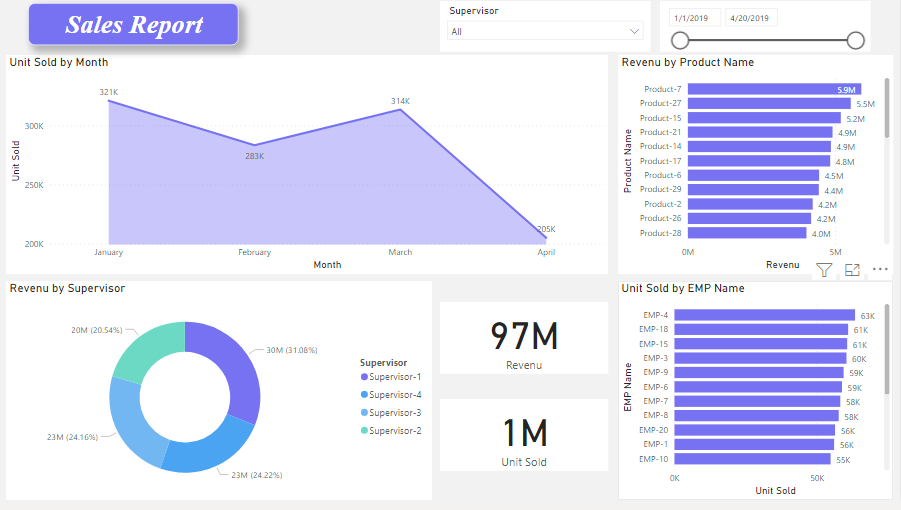

What the dashboard file says about the page in this screenshot:
{"tool":"powerbi","page":{"name":"Page 1","canvas":[1280,720],"ordinal":0},"visuals":[{"type":"card","fields":{"Values":["Sum(Sales Data.Unit Sold)"]},"box":[628.2,572.8,238.5,102.5],"z":0},{"type":"card","fields":{"Values":["Sum(Sales Data.Revenu)"]},"box":[628.2,435.1,238.5,102.5],"z":1000},{"type":"donutChart","fields":{"Y":["Sum(Sales Data.Revenu)"],"Category":["Emp Master.Supervisor"]},"box":[11.8,404.8,604.7,310.8],"z":2000},{"type":"areaChart","fields":{"Y":["Sum(Sales Data.Unit Sold)"],"Category":["Sales Data.Date.Variation.Date Hierarchy.Month"]},"box":[11.8,84,855,310.8],"z":3000},{"type":"clusteredBarChart","fields":{"Y":["Sum(Sales Data.Revenu)"],"Category":["Product Master.Product Name"]},"box":[880.2,84,391.4,310.8],"z":4000},{"type":"clusteredBarChart","fields":{"Y":["Sum(Sales Data.Unit Sold)"],"Category":["Emp Master.EMP Name"]},"box":[880.2,404.8,391.4,310.8],"z":5000},{"type":"slicer","fields":{"Values":["Sales Data.Date"]},"box":[940.7,6.7,299,72.2],"z":6000},{"type":"slicer","fields":{"Values":["Emp Master.Supervisor"]},"box":[628.2,6.7,299,72.2],"z":7000},{"type":"textbox","box":[42,10.1,299,60.5],"z":8000}]}

Visuals, with their boxes in screenshot pixels (x1, y1, x2, y2), scaled from the page's 1280x720 canvas onto the 901x510 screenshot:
card - Sum(Sales Data.Unit Sold): rect(442, 406, 610, 478)
card - Sum(Sales Data.Revenu): rect(442, 308, 610, 381)
donutChart - Sum(Sales Data.Revenu) x Emp Master.Supervisor: rect(8, 287, 434, 507)
areaChart - Sum(Sales Data.Unit Sold) x Sales Data.Date.Variation.Date Hierarchy.Month: rect(8, 60, 610, 280)
clusteredBarChart - Sum(Sales Data.Revenu) x Product Master.Product Name: rect(620, 60, 895, 280)
clusteredBarChart - Sum(Sales Data.Unit Sold) x Emp Master.EMP Name: rect(620, 287, 895, 507)
slicer - Sales Data.Date: rect(662, 5, 873, 56)
slicer - Emp Master.Supervisor: rect(442, 5, 653, 56)
textbox: rect(30, 7, 240, 50)
